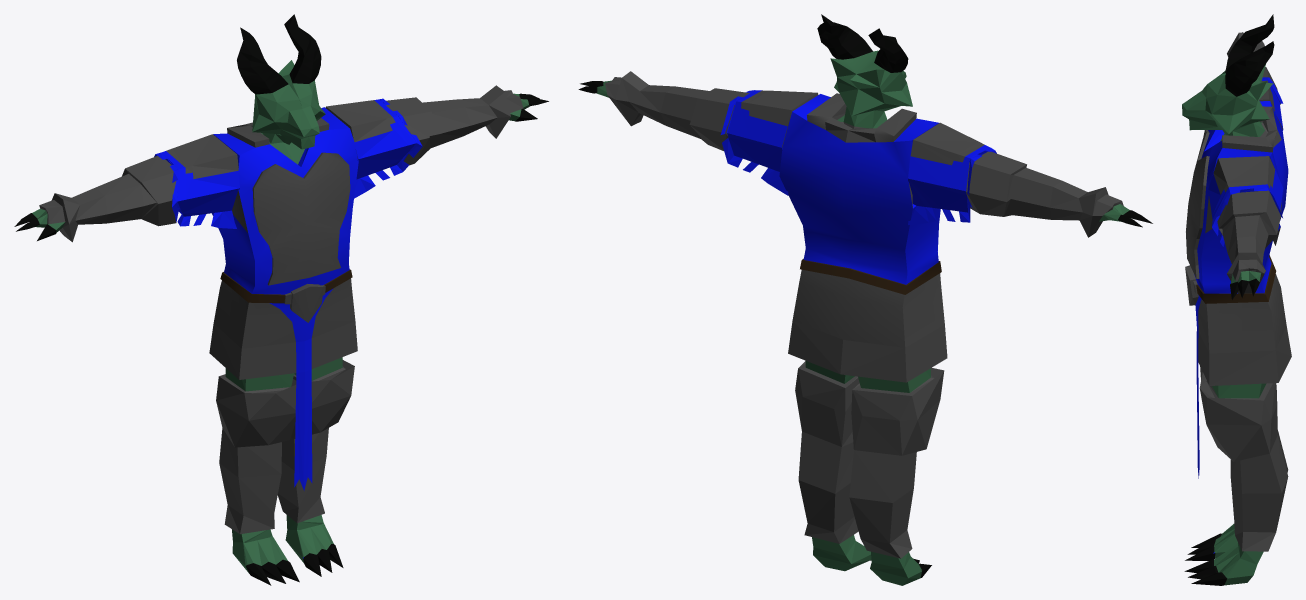
The model's file is Paladin.fbx.
3 renders of one model, left to right at view 1: azimuth 30°, elevation 25°; view 2: azimuth 150°, elevation 25°; view 3: azimuth 270°, elevation 25°, orthographic. The views are drawn at different scales.
Visible parts, largest first — view 1: ModeloColapsado; view 2: ModeloColapsado; view 3: ModeloColapsado.
Boxes of the visible parts, left/top/right/bottom form: ModeloColapsado: left=14, top=14, right=548, bottom=585; ModeloColapsado: left=578, top=14, right=1152, bottom=585; ModeloColapsado: left=1182, top=14, right=1291, bottom=585.
Size of the model in its own units: 2 by 1.89 by 0.349.
